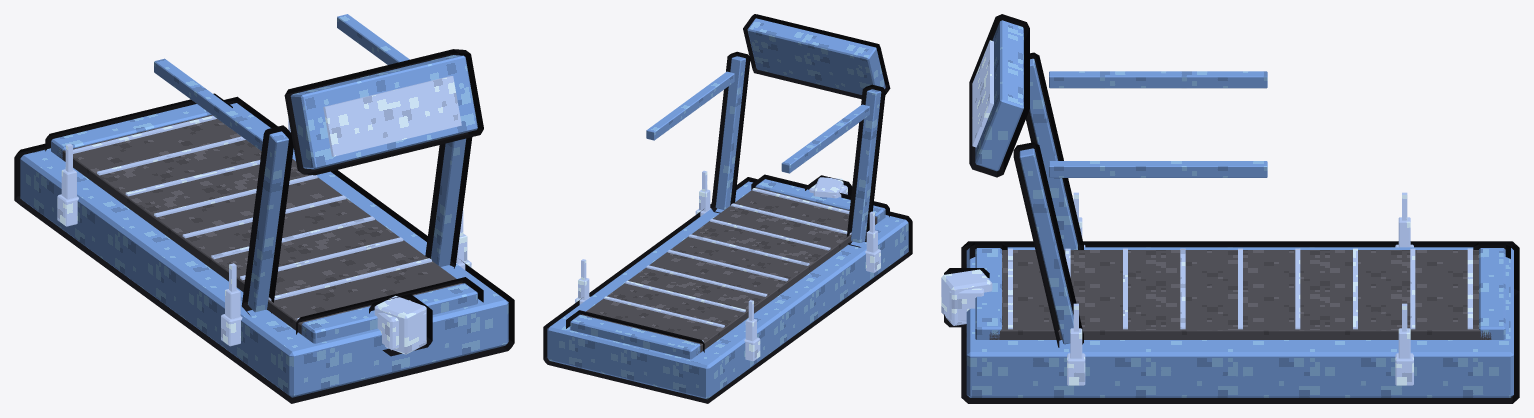
Rendered from treadmill_06.glb.
The picture shows the model from 3 angles, left to right: view 1: azimuth 30°, elevation 25°; view 2: azimuth 150°, elevation 25°; view 3: azimuth 270°, elevation 25°; orthographic projection. The views are drawn at different scales.
Visible parts, largest first — view 1: model; view 2: model; view 3: model.
Boxes of the visible parts, x1,y1,x2,y2 form: model: (14,14,514,403); model: (543,14,912,403); model: (941,14,1519,403).
Size of the model in its own units: 1.33 by 1.54 by 2.73.
Materials: 4 (3 with a texture image).
